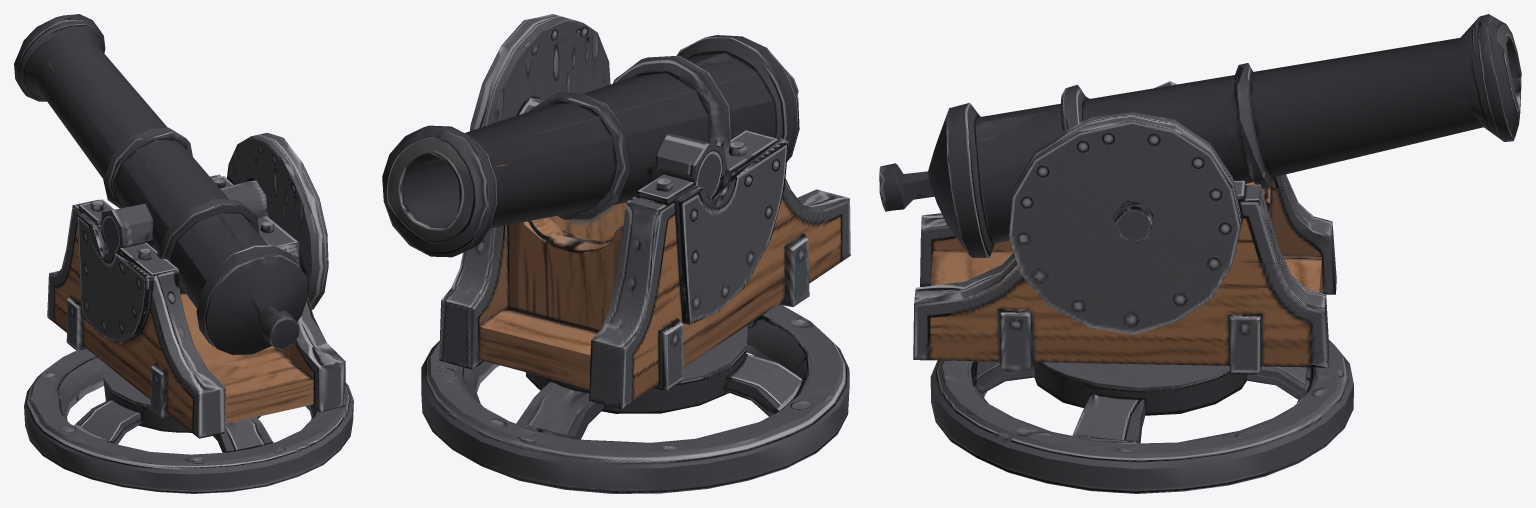
The model's file is cannon22a-b-1500.glb.
3 renders of one model, left to right at view 1: azimuth 30°, elevation 25°; view 2: azimuth 150°, elevation 25°; view 3: azimuth 270°, elevation 25°, orthographic. The views are drawn at different scales.
Visible parts, largest first — view 1: mount, barrel; view 2: mount, barrel; view 3: mount, barrel.
Boxes of the visible parts, x1,y1,x2,y2 form: mount: (24,132,353,493); barrel: (14,14,307,418); mount: (421,14,850,493); barrel: (382,35,809,390); mount: (913,112,1353,493); barrel: (879,14,1521,374).
Bounding box in the file's own units: 1.31 × 1.35 × 2.
Materials: 1 (1 with a texture image).
